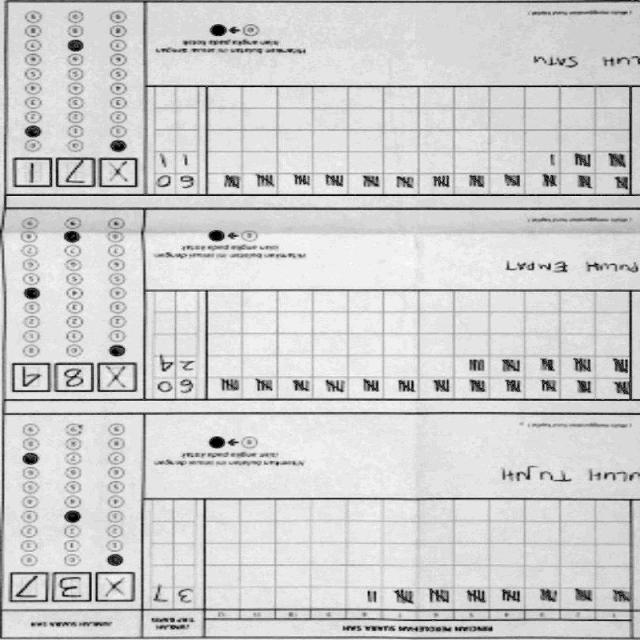Suara: (8, 152, 146, 198), (6, 568, 139, 610), (10, 360, 144, 399)
